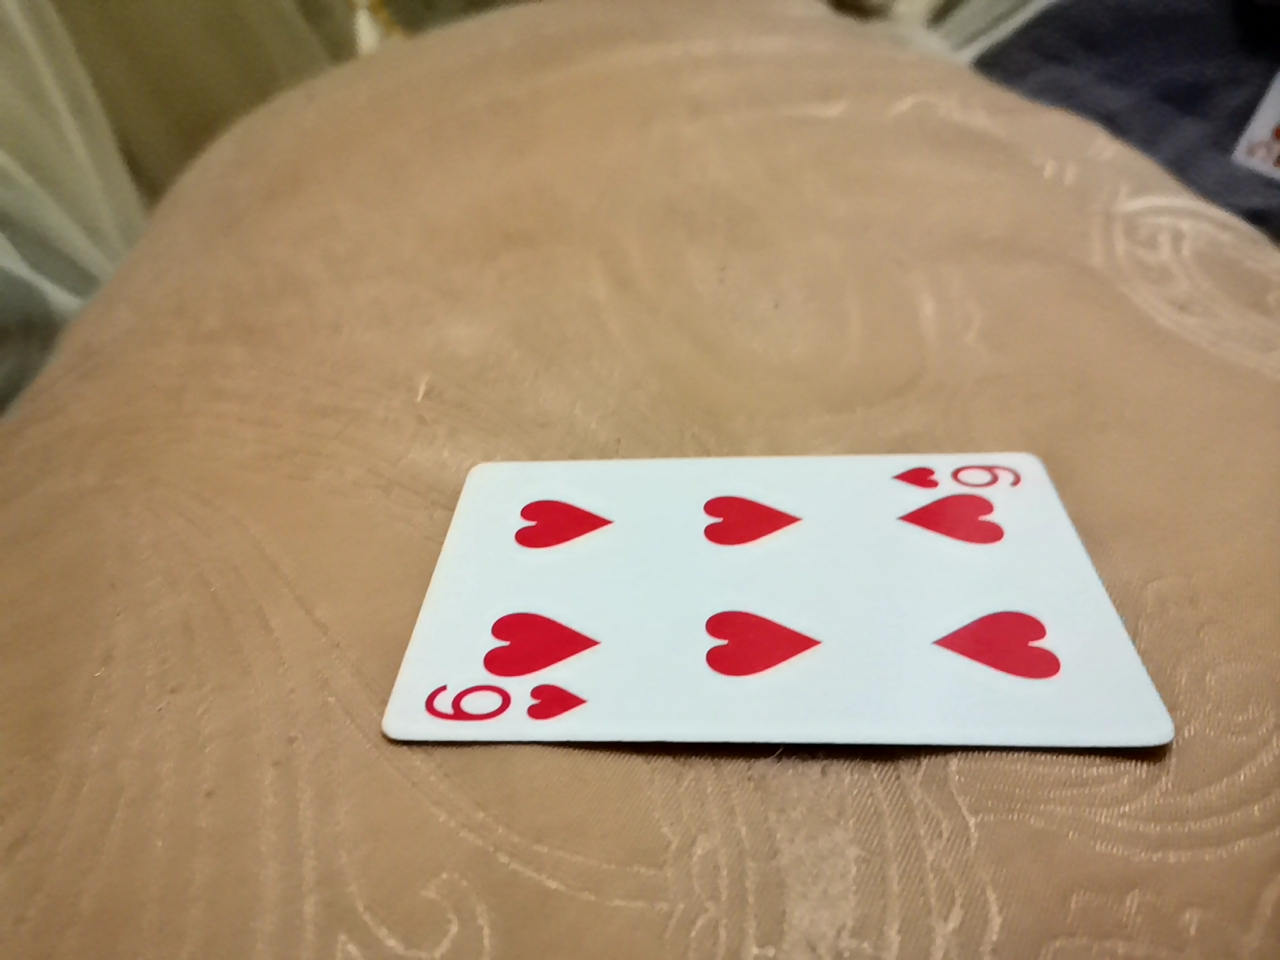hx 6: (372, 441, 1176, 755)
